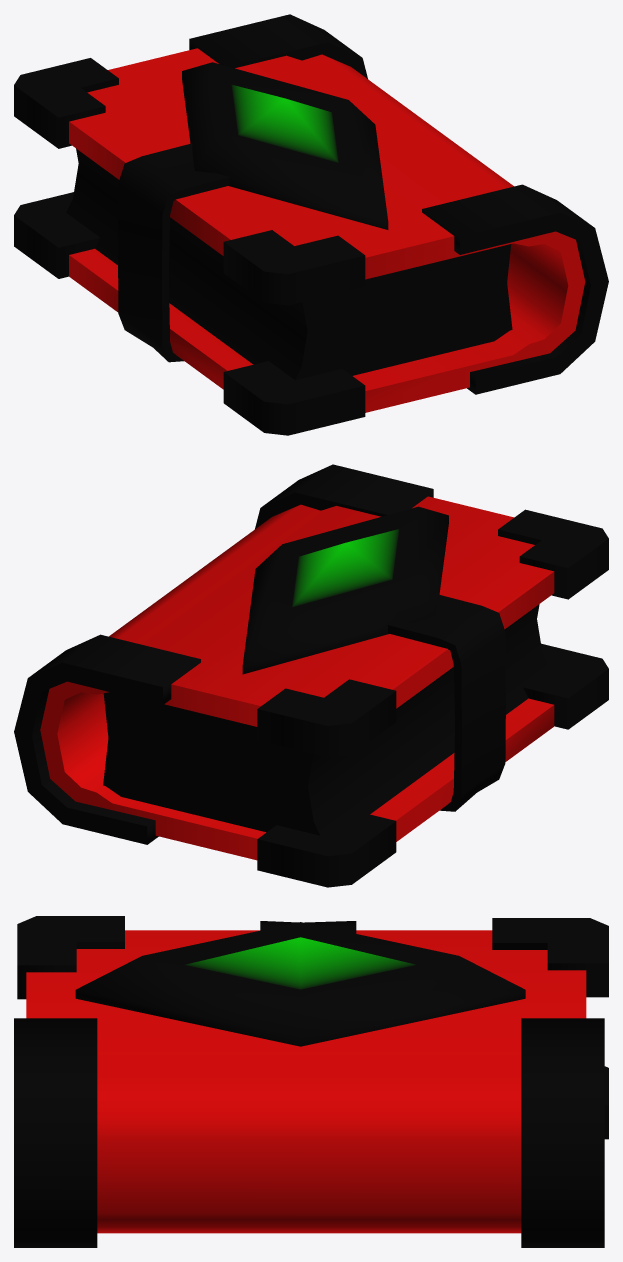
File: Book_A.fbx
3 renders of one model, top to bottom at view 1: azimuth 30°, elevation 25°; view 2: azimuth 150°, elevation 25°; view 3: azimuth 270°, elevation 25°, orthographic. The views are drawn at different scales.
Parts seen in each view (by area): view 1: U_Book_A; view 2: U_Book_A; view 3: U_Book_A.
Part boxes in pixels (bbox=[...]): U_Book_A: bbox=[14, 14, 608, 435]; U_Book_A: bbox=[14, 464, 608, 887]; U_Book_A: bbox=[14, 916, 608, 1247].
Size of the model in its own units: 43.98 by 27.8 by 62.1.
